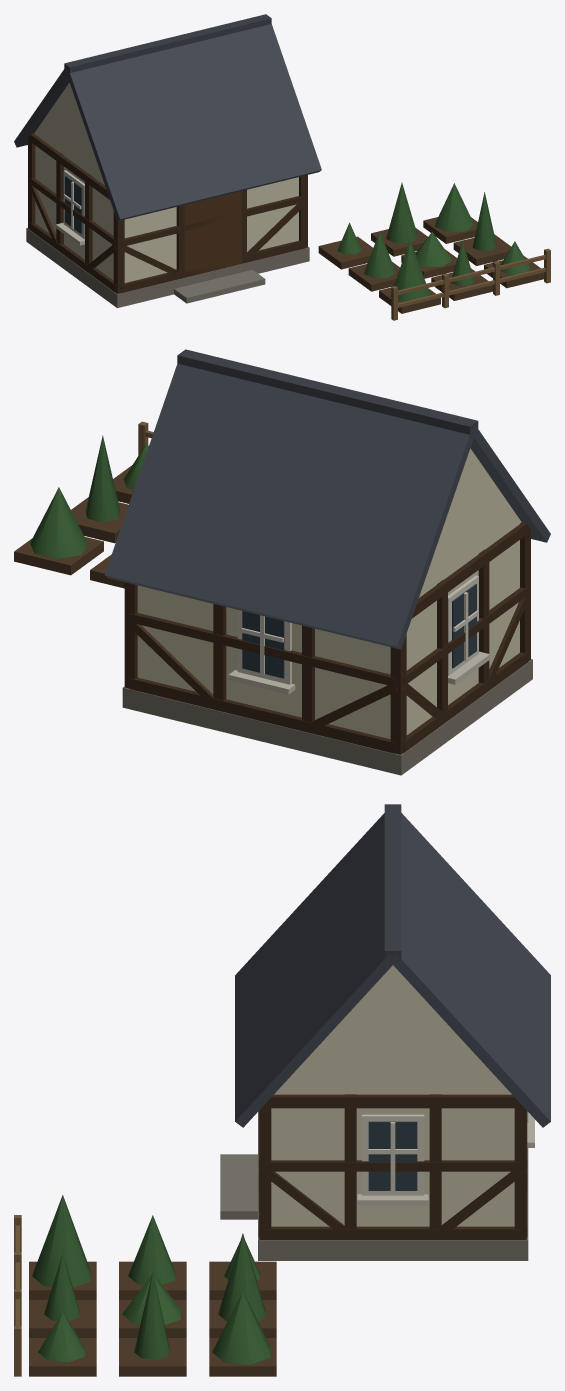
File: procedural_forester@3.glb
3 views of the same model, one above another, from view 1: azimuth 30°, elevation 25°; view 2: azimuth 150°, elevation 25°; view 3: azimuth 270°, elevation 25° (orthographic). The views are drawn at different scales.
Visible parts, largest first — view 1: part_0; view 2: part_0; view 3: part_0.
Part boxes in pixels (<box>): part_0: <box>14,14,550,320</box>; part_0: <box>14,349,550,775</box>; part_0: <box>14,804,550,1376</box>.
Size of the model in its own units: 8.16 by 4.61 by 7.15.
